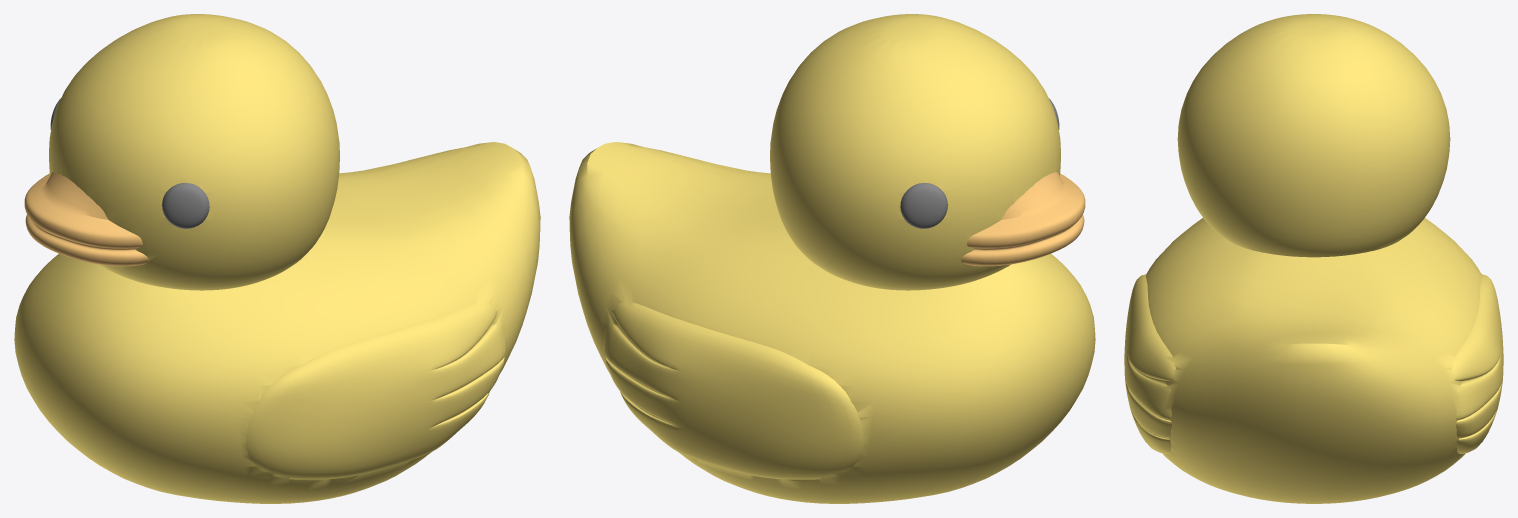
Rendered from duck.glb.
3 renders of one model, left to right at view 1: azimuth 30°, elevation 25°; view 2: azimuth 150°, elevation 25°; view 3: azimuth 270°, elevation 25°, orthographic. The views are drawn at different scales.
Visible parts, largest first — view 1: Geom3D (×3); view 2: Geom3D (×3); view 3: Geom3D.
Boxes of the visible parts, x1,y1,x2,y2 form: Geom3D (×3): [14, 14, 540, 503]; Geom3D (×3): [569, 14, 1095, 503]; Geom3D: [1124, 14, 1503, 503].
Bounding box in the file's own units: 0.2155 × 0.1874 × 0.1588.
